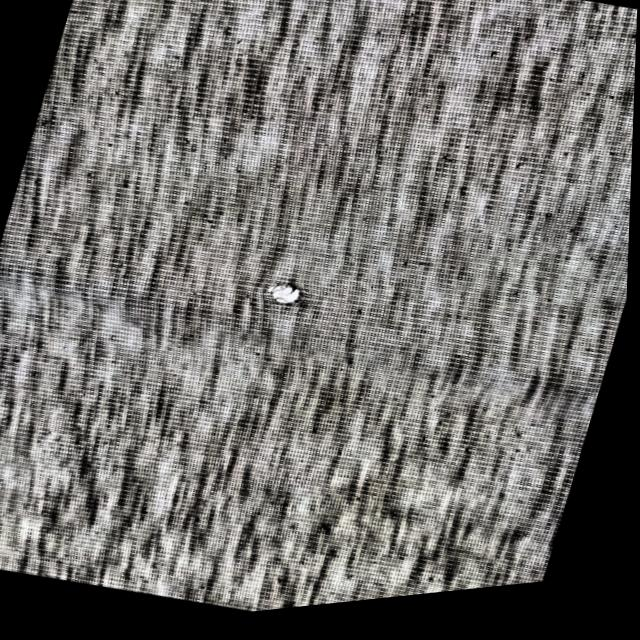Hole: (259, 281, 318, 325)
